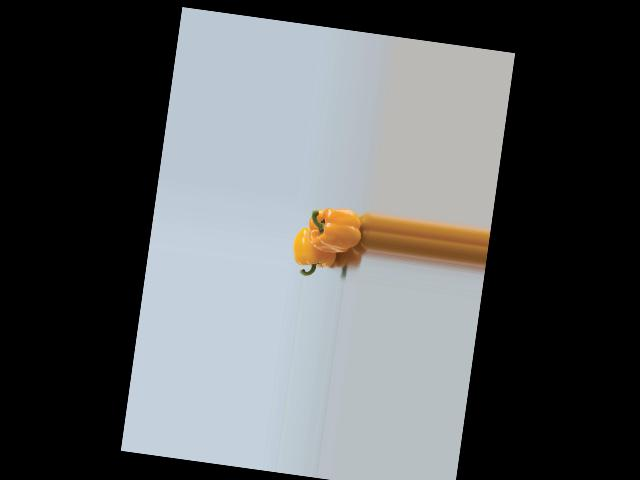bell_pepper: (289, 224, 347, 279)
